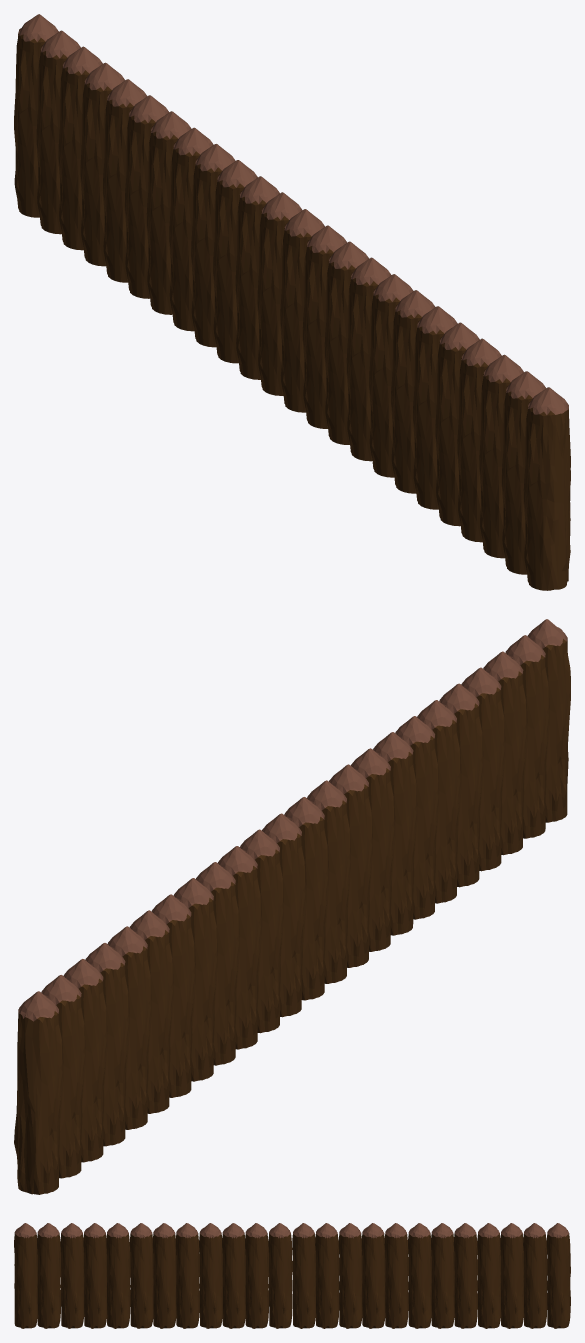
The model's file is murdepic.fbx.
3 renders of one model, top to bottom at view 1: azimuth 30°, elevation 25°; view 2: azimuth 150°, elevation 25°; view 3: azimuth 270°, elevation 25°, orthographic. The views are drawn at different scales.
Visible parts, largest first — view 1: picbarriere.018, picbarriere.005, picbarriere.003, picbarriere.009, picbarriere.014, picbarriere.002, picbarriere.008, picbarriere.021, picbarriere.015, picbarriere.020, picbarriere.012, picbarriere.013 (+12 smaller); view 2: picbarriere.009, picbarriere.014, picbarriere.016, picbarriere.007, picbarriere.010, picbarriere.022, picbarriere.001, picbarriere.019, picbarriere.004, picbarriere.013, picbarriere.008, picbarriere.003 (+12 smaller); view 3: picbarriere.019, picbarriere.009, picbarriere.007, picbarriere.014, picbarriere.013, picbarriere.016, picbarriere.001, picbarriere.010, picbarriere.018, picbarriere.021, picbarriere.012, picbarriere.002 (+12 smaller).
Part boxes in pixels (bbox=[...]): picbarriere.018: bbox=[523, 387, 570, 590]; picbarriere.005: bbox=[257, 192, 302, 395]; picbarriere.003: bbox=[213, 160, 257, 363]; picbarriere.009: bbox=[14, 14, 58, 217]; picbarriere.014: bbox=[280, 209, 324, 412]; picbarriere.002: bbox=[146, 111, 191, 314]; picbarriere.008: bbox=[80, 62, 125, 266]; picbarriere.021: bbox=[413, 306, 457, 509]; picbarriere.015: bbox=[346, 257, 391, 461]; picbarriere.020: bbox=[479, 354, 523, 558]; picbarriere.012: bbox=[324, 241, 369, 444]; picbarriere.013: bbox=[302, 225, 346, 428]; picbarriere.009: bbox=[14, 991, 62, 1194]; picbarriere.014: bbox=[284, 797, 328, 1000]; picbarriere.016: bbox=[373, 732, 416, 935]; picbarriere.007: bbox=[107, 926, 151, 1129]; picbarriere.010: bbox=[41, 975, 84, 1178]; picbarriere.022: bbox=[439, 683, 482, 887]; picbarriere.001: bbox=[173, 878, 217, 1081]; picbarriere.019: bbox=[505, 635, 548, 838]; picbarriere.004: bbox=[240, 829, 283, 1033]; picbarriere.013: bbox=[307, 780, 350, 983]; picbarriere.008: bbox=[85, 943, 128, 1146]; picbarriere.003: bbox=[218, 846, 260, 1049]; picbarriere.019: bbox=[37, 1223, 61, 1328]; picbarriere.009: bbox=[546, 1223, 570, 1328]; picbarriere.007: bbox=[453, 1223, 477, 1328]; picbarriere.014: bbox=[268, 1223, 292, 1328]; picbarriere.013: bbox=[245, 1223, 268, 1328]; picbarriere.016: bbox=[175, 1223, 199, 1328]; picbarriere.001: bbox=[384, 1223, 408, 1328]; picbarriere.010: bbox=[523, 1223, 547, 1328]; picbarriere.018: bbox=[14, 1223, 37, 1328]; picbarriere.021: bbox=[129, 1223, 153, 1328]; picbarriere.012: bbox=[222, 1223, 245, 1328]; picbarriere.002: bbox=[408, 1223, 431, 1328].
Size of the model in its own units: 155 by 685 by 3404.
